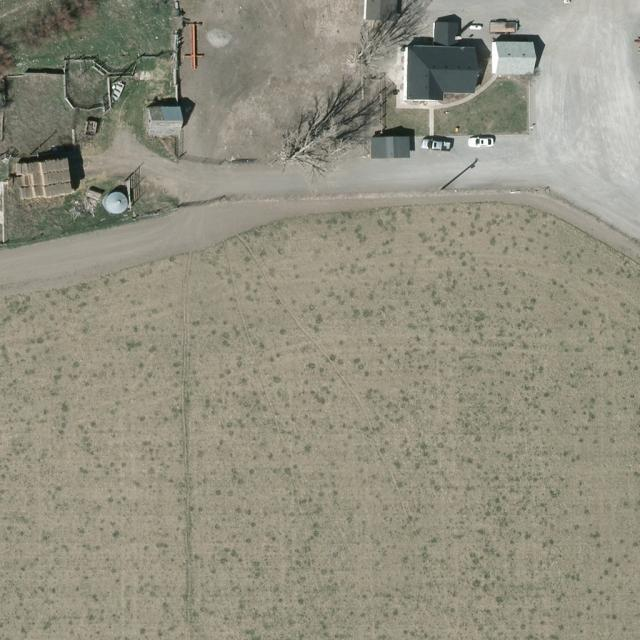vehicle: (420, 138, 452, 153), (468, 138, 494, 148)
